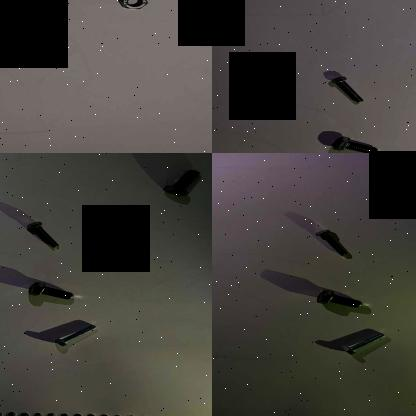Bolts: (332, 330, 390, 358), (46, 322, 101, 350), (310, 226, 354, 260), (158, 166, 202, 198), (21, 220, 65, 251), (312, 288, 364, 312), (324, 75, 366, 103), (26, 280, 74, 304), (325, 134, 385, 153)
NUTS: (113, 0, 153, 12)
